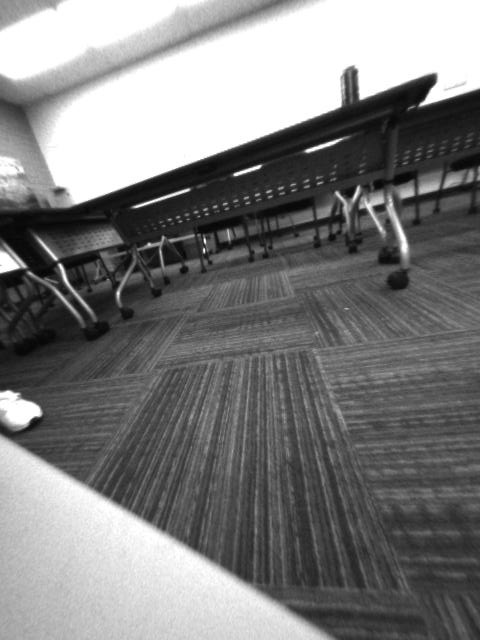can: (336, 65, 363, 109)
